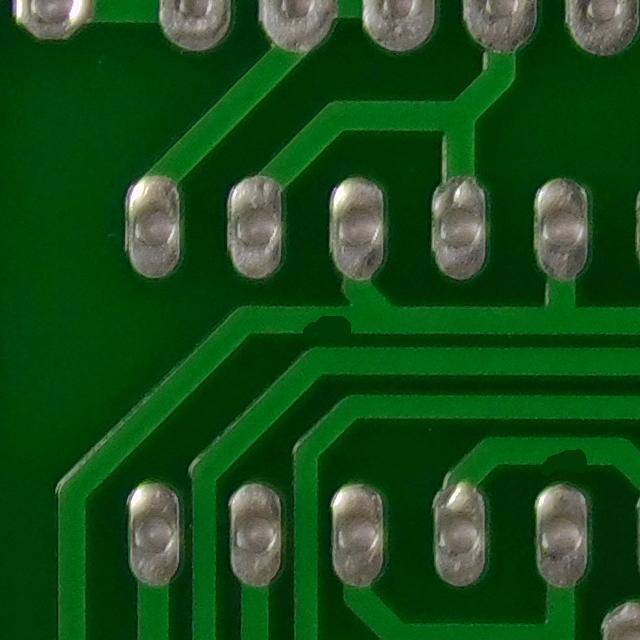mouse_bite: (281, 292, 360, 348)
